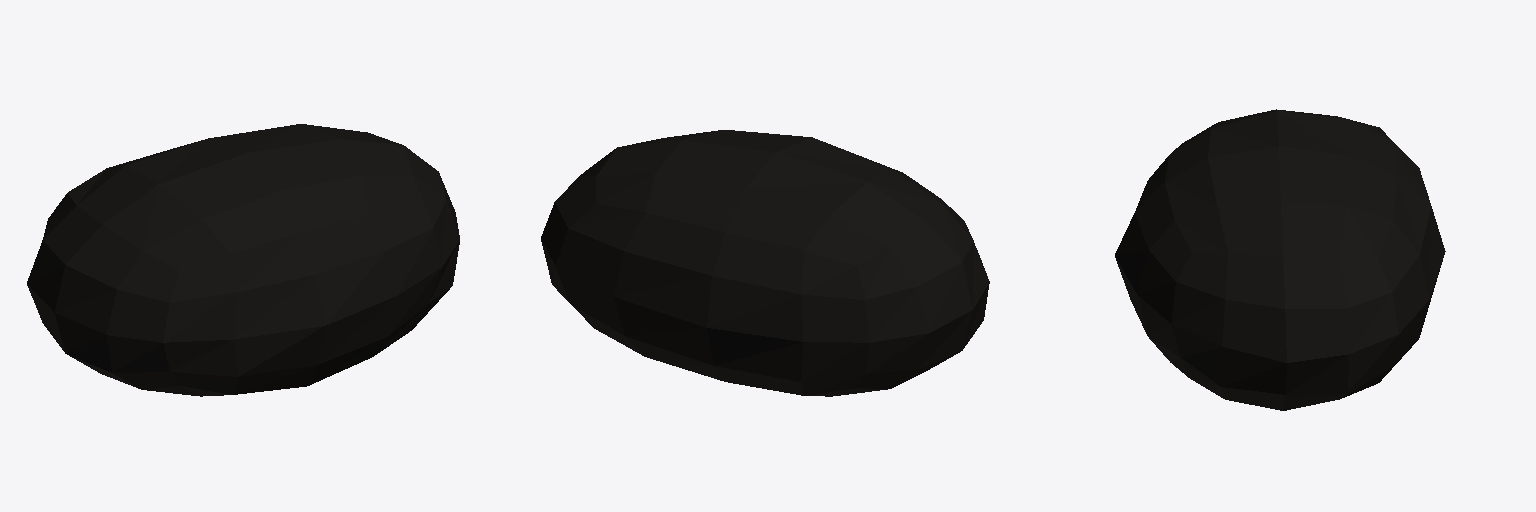
File: rock1.obj
The picture shows the model from 3 angles: view 1: azimuth 30°, elevation 25°; view 2: azimuth 150°, elevation 25°; view 3: azimuth 270°, elevation 25°; orthographic projection.
Parts seen in each view (by area): view 1: Box001; view 2: Box001; view 3: Box001.
Part boxes in pixels (x1,y1,x2,y2): Box001: (27,124,459,396); Box001: (541,130,989,396); Box001: (1115,109,1445,410).
Size of the model in its own units: 38.65 by 19.22 by 27.28.